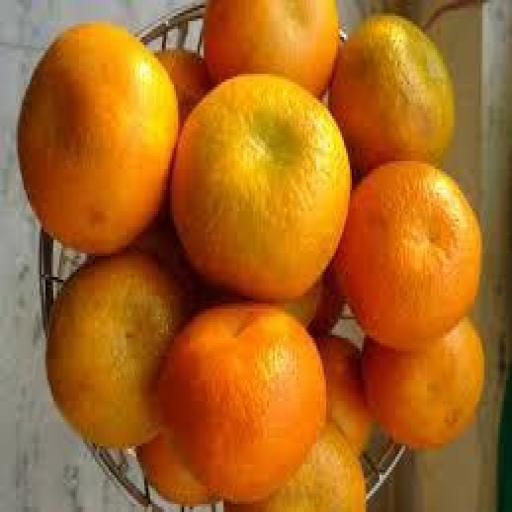orange: (172, 74, 349, 300), (18, 24, 177, 253), (159, 304, 326, 501), (335, 161, 482, 351)
